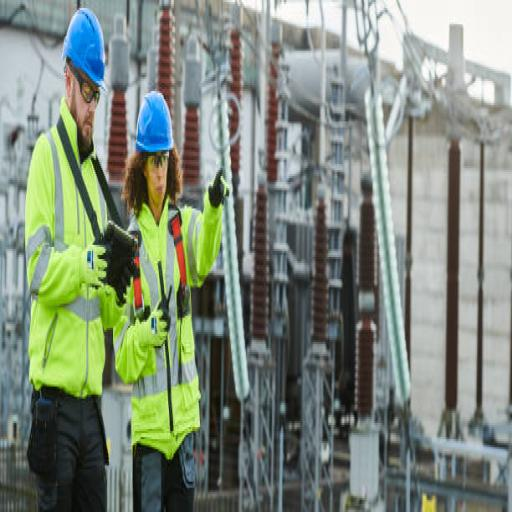gloves: (72, 226, 138, 310), (135, 284, 188, 362), (200, 155, 236, 232)
helmet: (49, 5, 113, 107), (133, 78, 177, 173)
jacket: (110, 173, 236, 465), (16, 87, 124, 409)
safety glasses: (60, 46, 106, 112), (134, 141, 175, 177)
